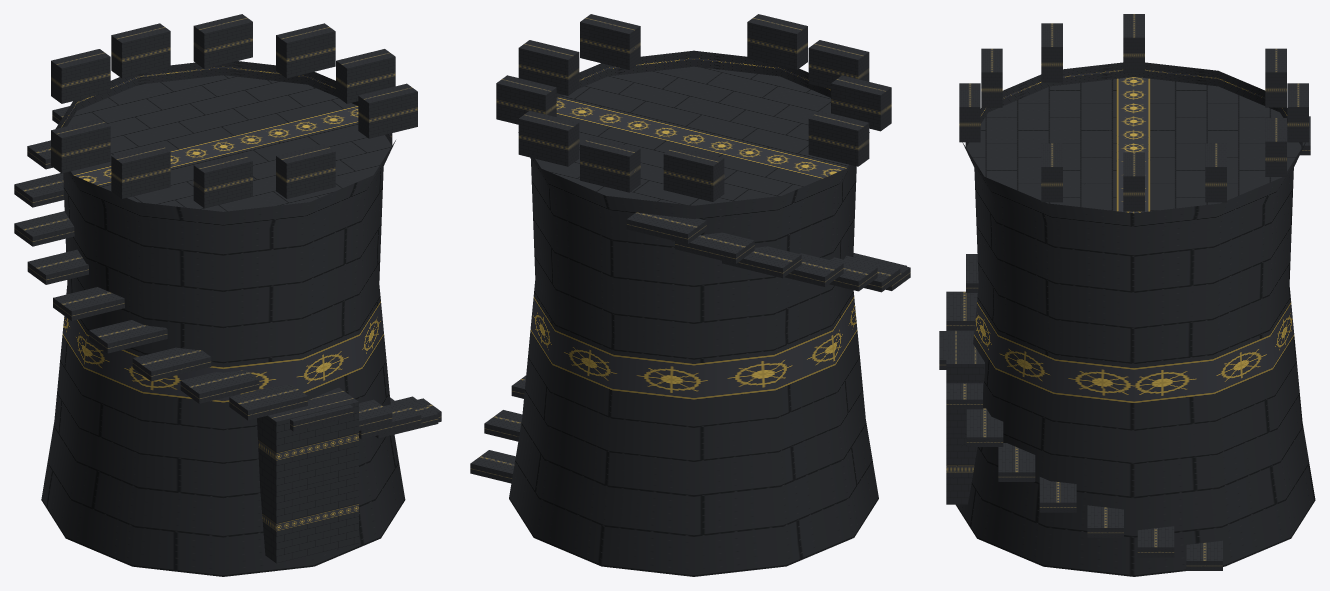
Rendered from ruined_watchtower.glb.
3 renders of one model, left to right at view 1: azimuth 30°, elevation 25°; view 2: azimuth 150°, elevation 25°; view 3: azimuth 270°, elevation 25°, orthographic. The views are drawn at different scales.
Visible parts, largest first — view 1: Node_RuinedWatchtower; view 2: Node_RuinedWatchtower; view 3: Node_RuinedWatchtower.
Part boxes in pixels (bbox=[...]): Node_RuinedWatchtower: bbox=[14, 14, 441, 576]; Node_RuinedWatchtower: bbox=[470, 14, 910, 576]; Node_RuinedWatchtower: bbox=[939, 14, 1315, 576].
Bounding box in the file's own units: 9.72 × 10.35 × 8.71.
1 material, 1 textured.
